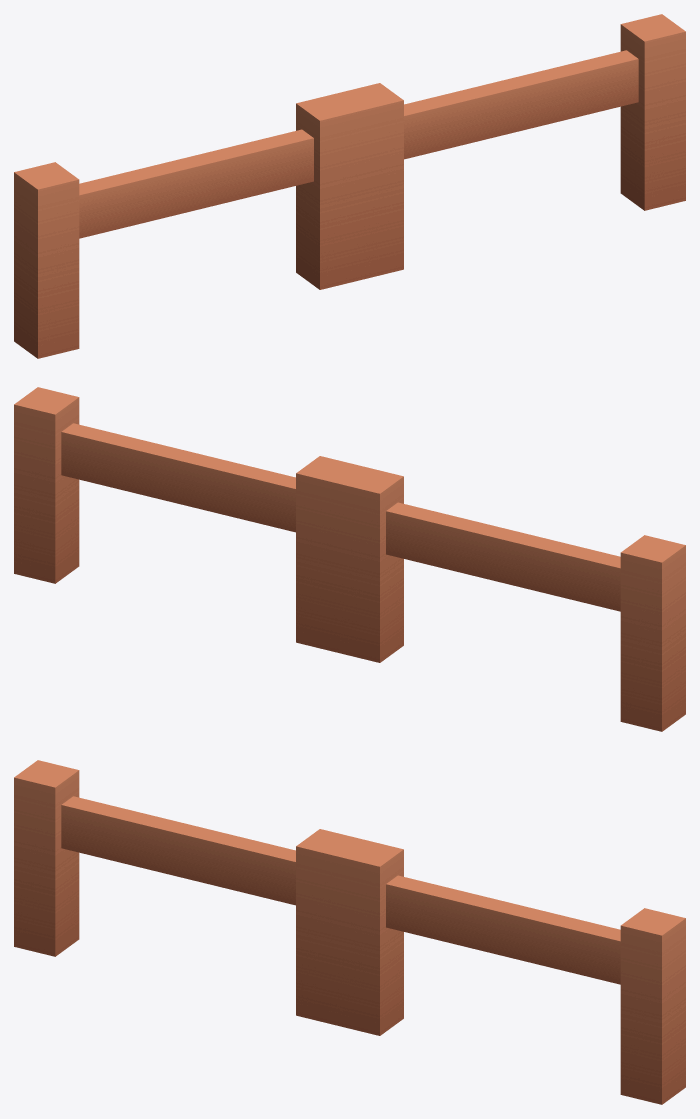
Rendered from fence.glb.
3 renders of one model, top to bottom at view 1: azimuth 30°, elevation 25°; view 2: azimuth 150°, elevation 25°; view 3: azimuth 330°, elevation 25°, orthographic.
Visible parts, largest first — view 1: wood-structure-part; view 2: wood-structure-part; view 3: wood-structure-part.
Boxes of the visible parts, bbox=[...] form: wood-structure-part: bbox=[14, 14, 685, 358]; wood-structure-part: bbox=[14, 387, 685, 731]; wood-structure-part: bbox=[14, 760, 685, 1104].
Bounding box in the file's own units: 2 × 0.5 × 0.128.
Materials: 2 (2 with a texture image).
